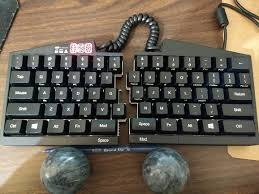keyboard: (6, 47, 259, 150)
